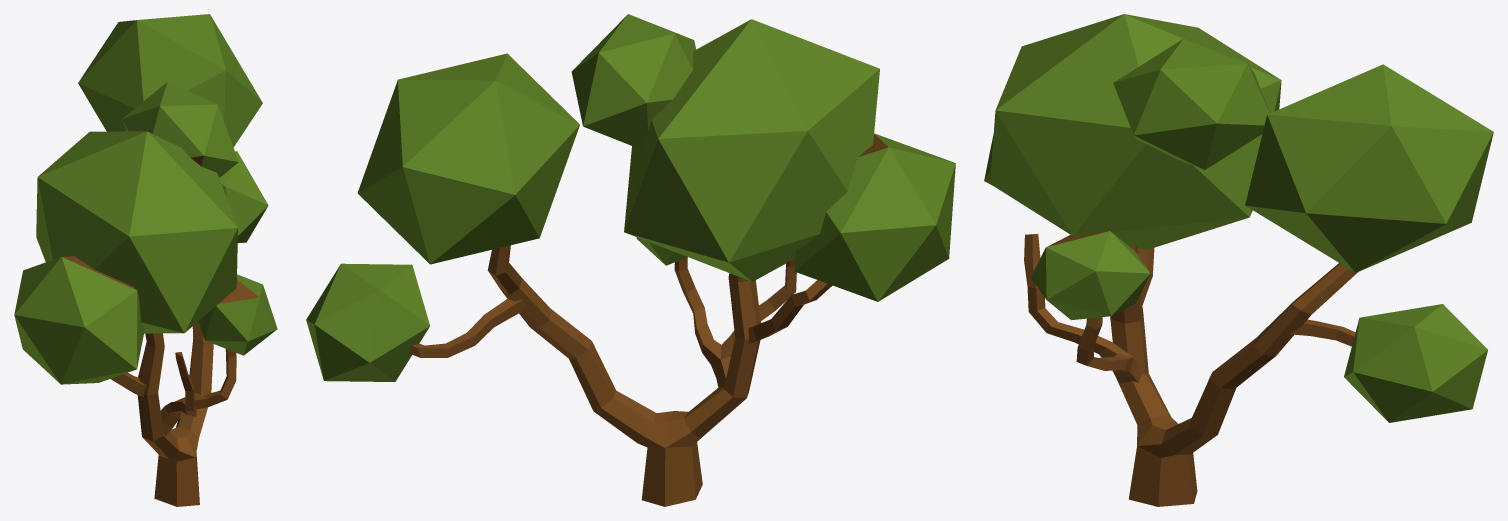
File: Arbol 2.fbx
3 renders of one model, left to right at view 1: azimuth 30°, elevation 25°; view 2: azimuth 150°, elevation 25°; view 3: azimuth 270°, elevation 25°, orthographic. The views are drawn at different scales.
Parts seen in each view (by area): view 1: Tree_lp_11; view 2: Tree_lp_11; view 3: Tree_lp_11.
Part boxes in pixels (box(x1,y1,x2,y2)): Tree_lp_11: box(14, 14, 277, 506); Tree_lp_11: box(306, 14, 955, 506); Tree_lp_11: box(984, 14, 1493, 506).
Size of the model in its own units: 500 by 500 by 500.
